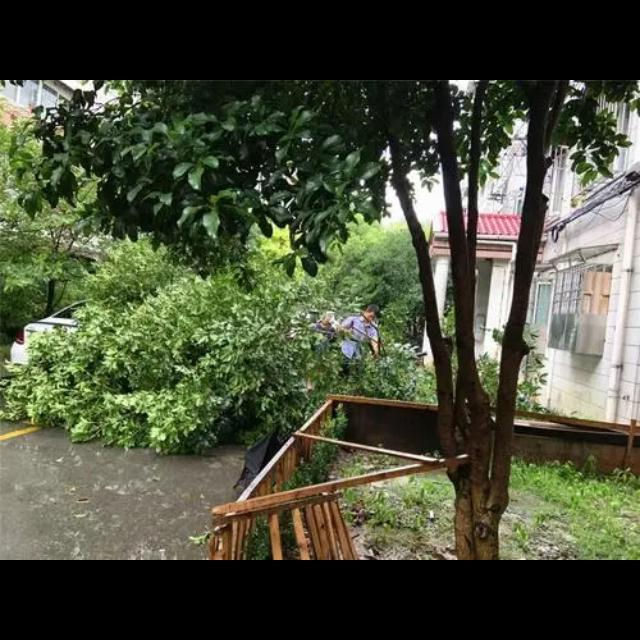fallen_tree: (11, 249, 407, 461)
